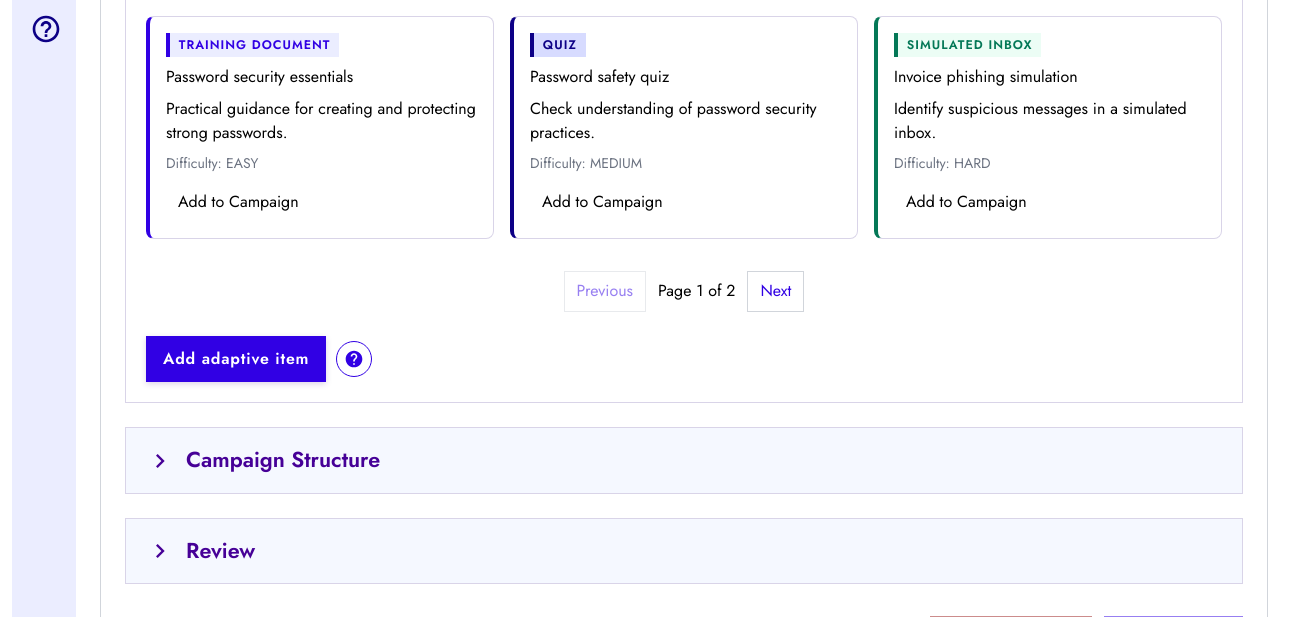
Test: CampaignManagementDetailPage catalogue › uses authoritative pagination metadata for Previous and Next
This screenshot has width=1292, height=617.
(page scrolled)
Check: the text "Page 1 of 2" is shown, box left=658, top=280, right=736, bottom=304
Check: the button "Previous" is disabled, box left=564, top=271, right=646, bottom=312
Click the button "Next": (776, 292) left=748, top=271, right=804, bottom=312
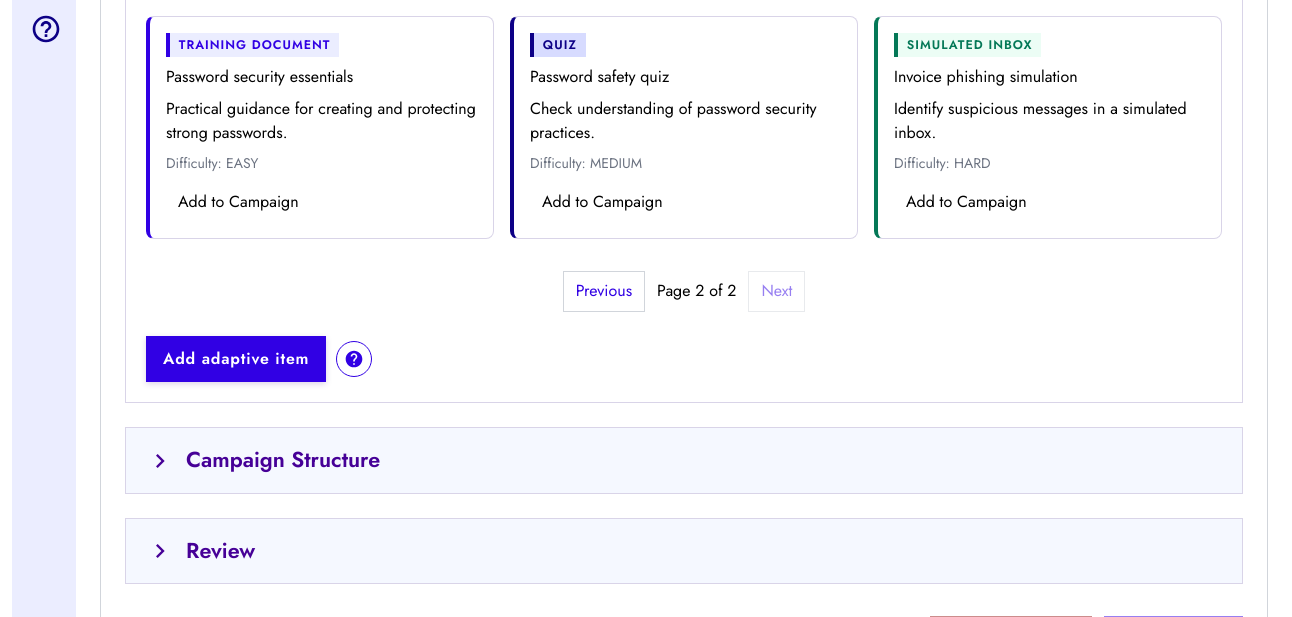
Check: the text "Page 2 of 2" is shown, box left=657, top=280, right=736, bottom=304
Check: the button "Previous" is enabled, box left=563, top=271, right=645, bottom=312
Check: the button "Next" is disabled, box left=748, top=271, right=805, bottom=312
